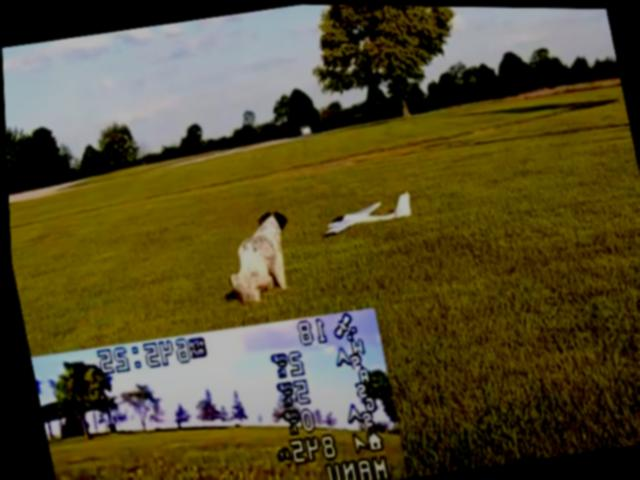iha: (318, 188, 413, 235)
